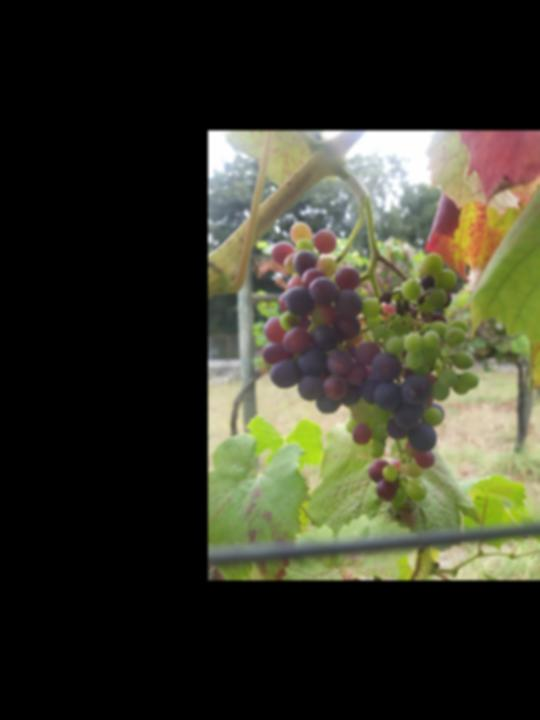grape: (259, 219, 481, 511)
